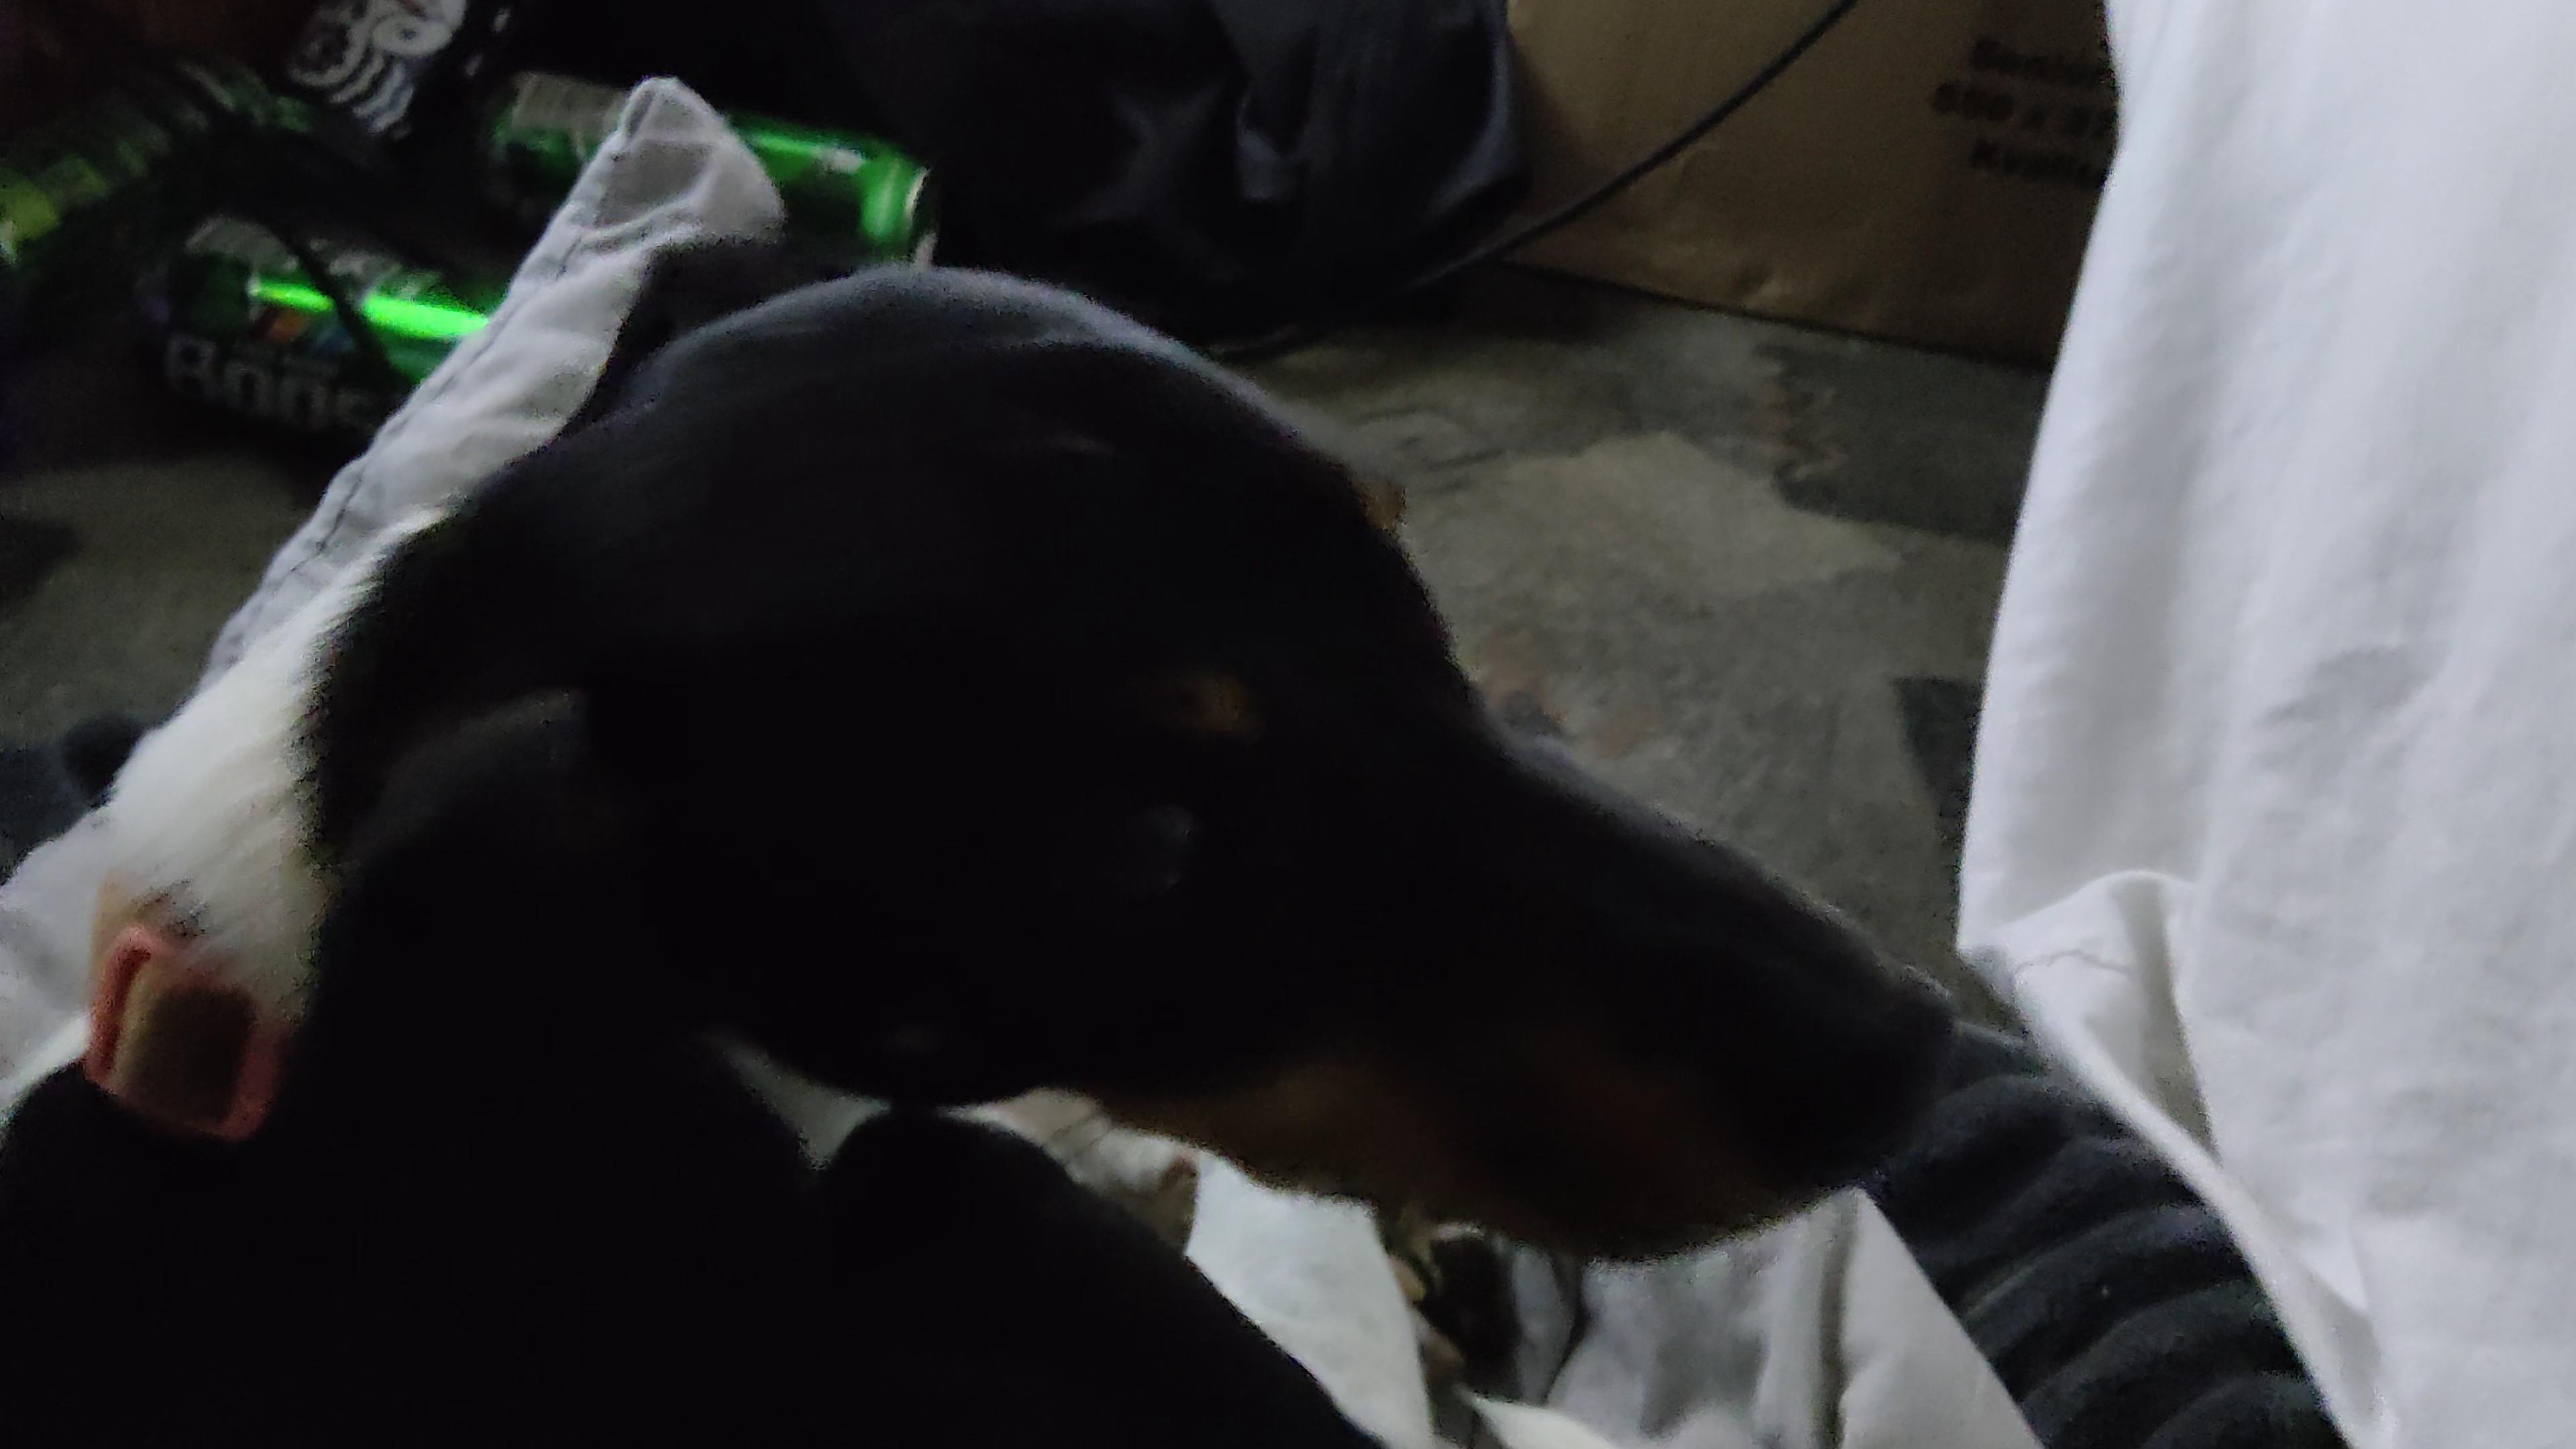Dog: (0, 216, 1971, 1449)
